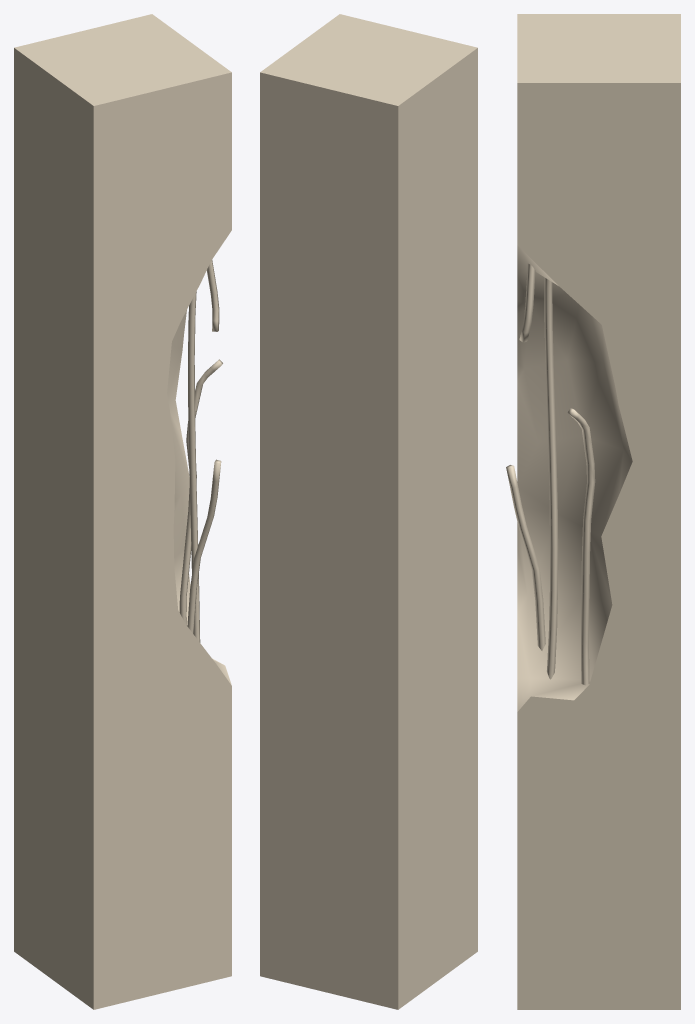
Rendered from ConcreteStack_01.fbx.
3 views of the same model, side by side, from view 1: azimuth 30°, elevation 25°; view 2: azimuth 150°, elevation 25°; view 3: azimuth 270°, elevation 25° (orthographic). The views are drawn at different scales.
Parts seen in each view (by area): view 1: Concrete_Stack_01_LOD0; view 2: Concrete_Stack_01_LOD0; view 3: Concrete_Stack_01_LOD0.
Part boxes in pixels (x1=…): Concrete_Stack_01_LOD0: x1=14, y1=14, x2=231, y2=1009; Concrete_Stack_01_LOD0: x1=260, y1=14, x2=477, y2=1009; Concrete_Stack_01_LOD0: x1=506, y1=14, x2=680, y2=1009.
Size of what is drawn, in the model's own units: 0.4514 by 2.5 by 0.4274.
